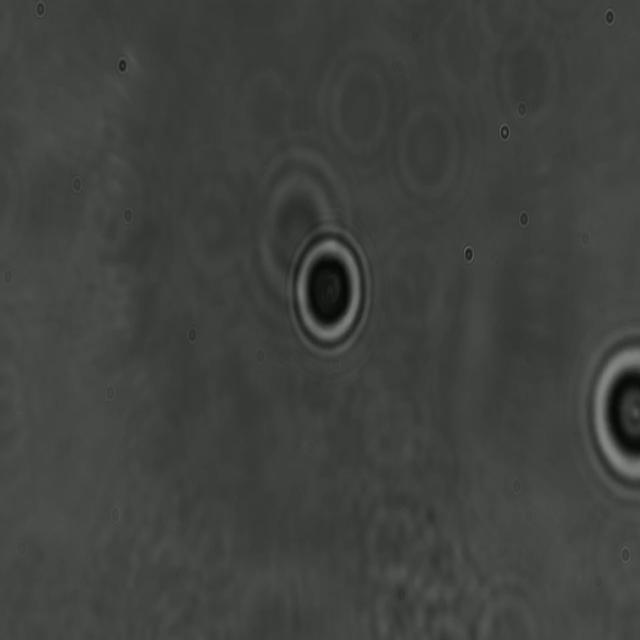DCELL: (288, 220, 370, 362)
